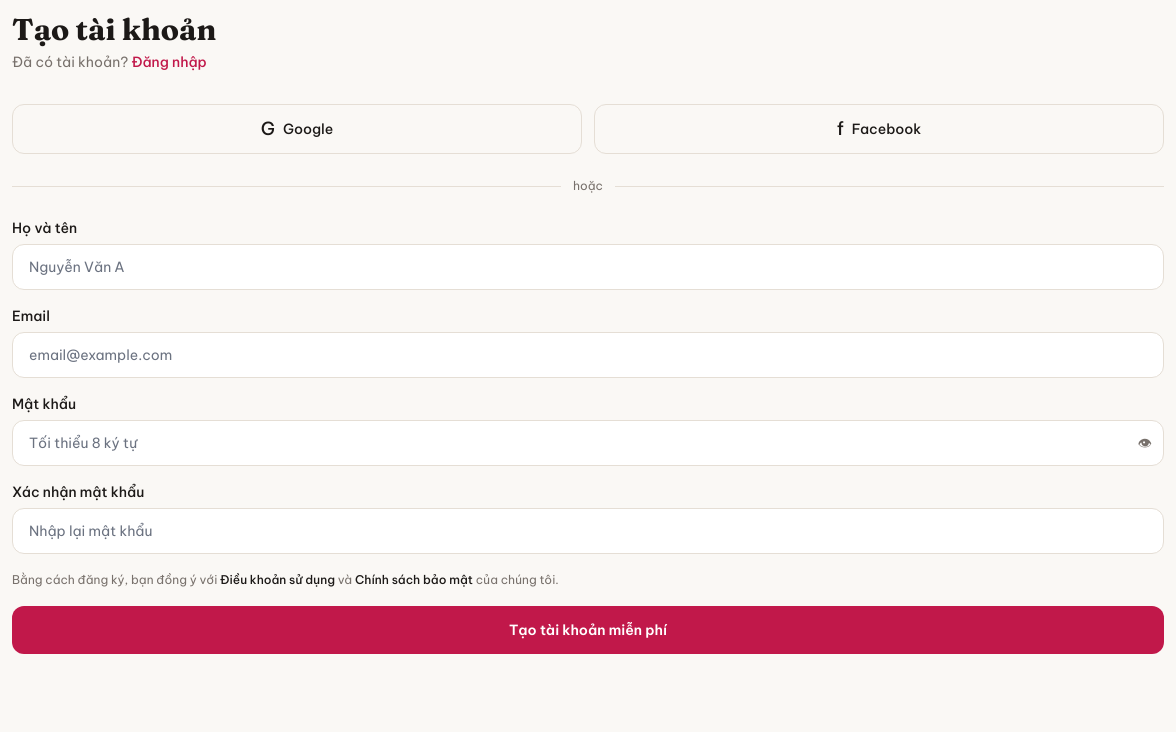
Test case: RegisterPage.vue › displays backend validation error under fields (422)
Type "Test User" into the field labelled "Họ và tên" at x=588, y=267, box [12, 244, 1164, 290]
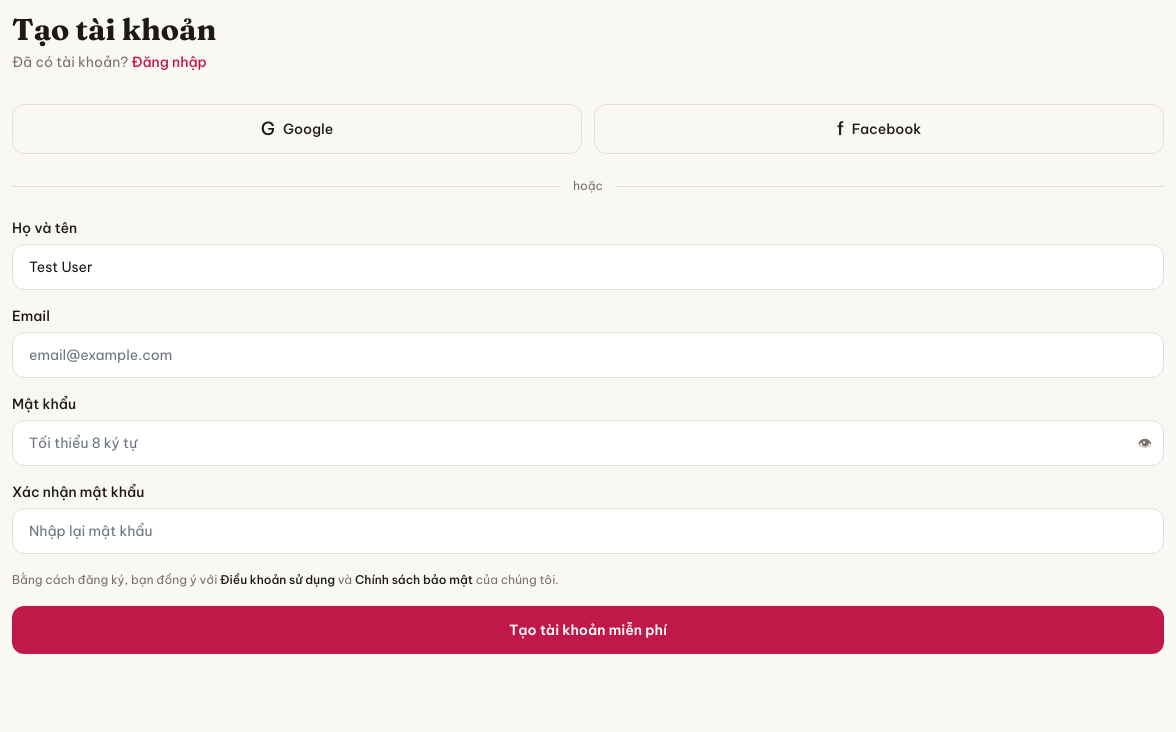
Type "test@example.com" into the field labelled "Email" at x=588, y=355, box [12, 332, 1164, 378]
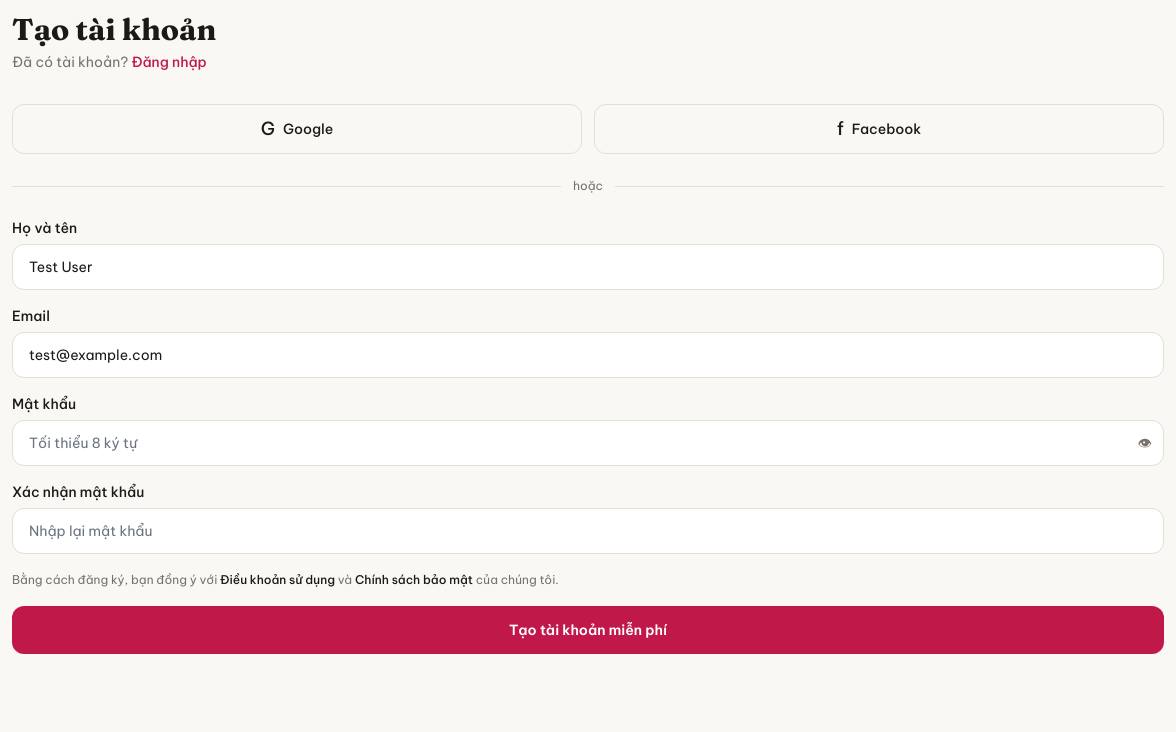
Type "password123" into the password field labelled "Mật khẩu" at x=588, y=443, box [12, 420, 1164, 466]
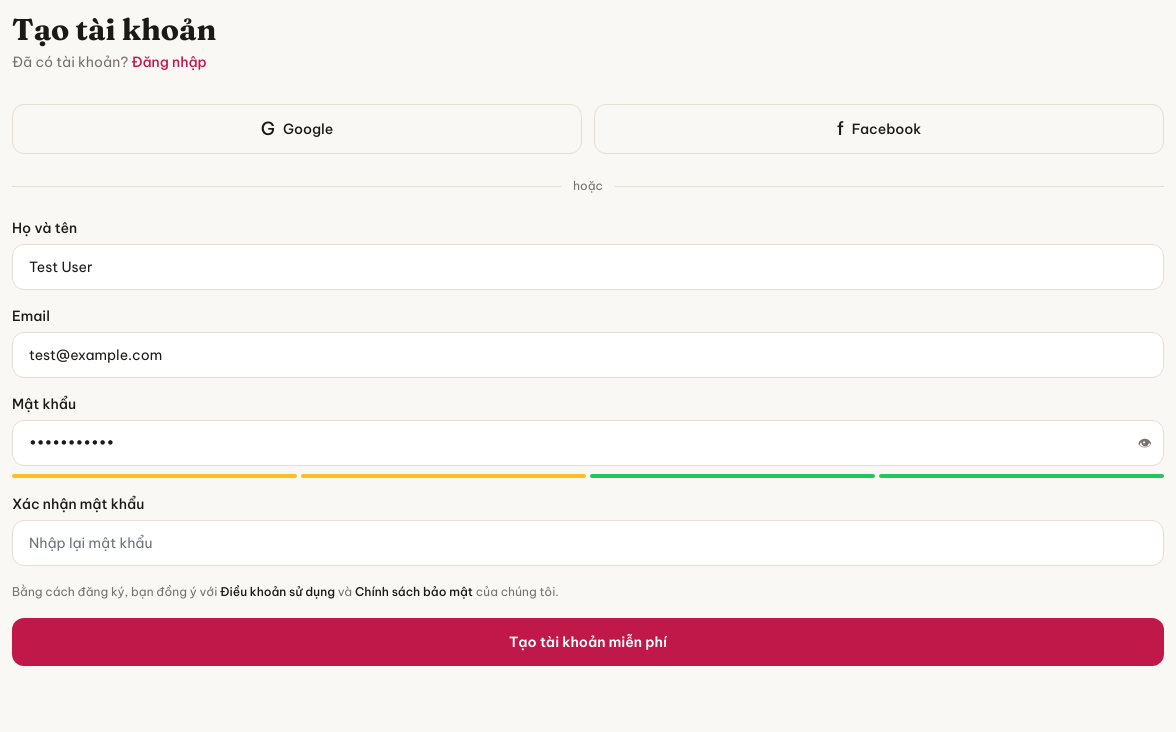
Type "password123" into the password field labelled "Xác nhận mật khẩu" at x=588, y=543, box [12, 520, 1164, 566]
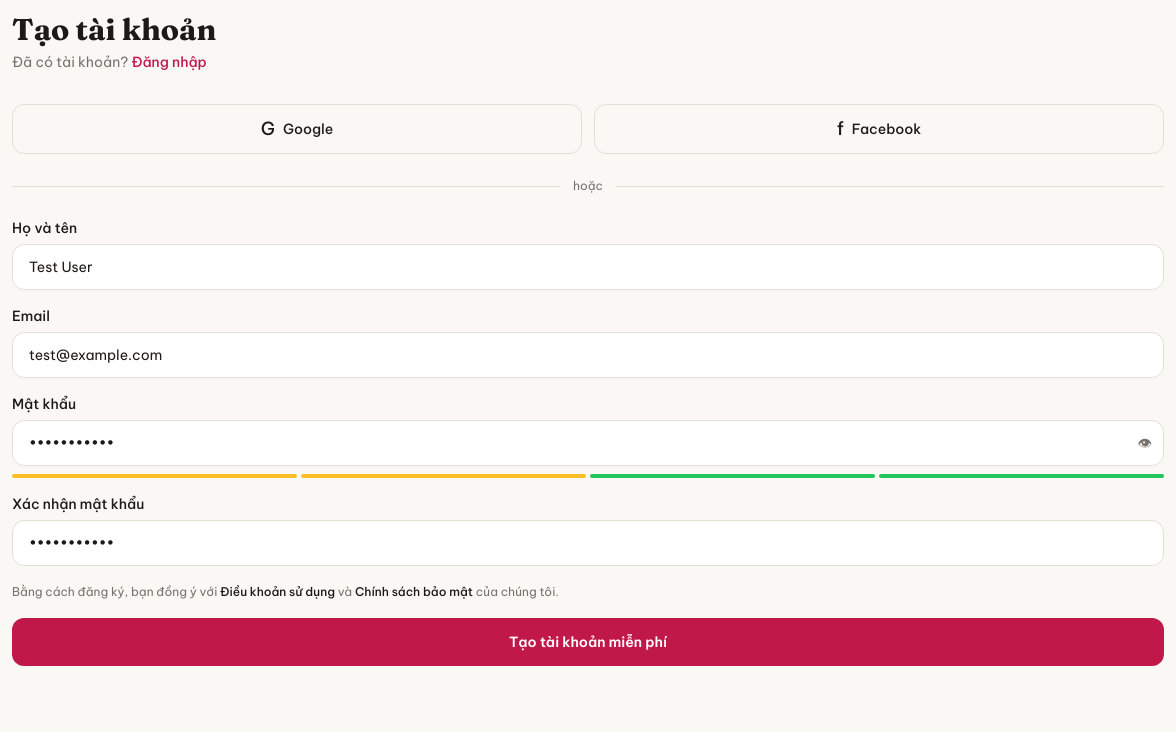
Submit the form, box [12, 218, 1164, 666]
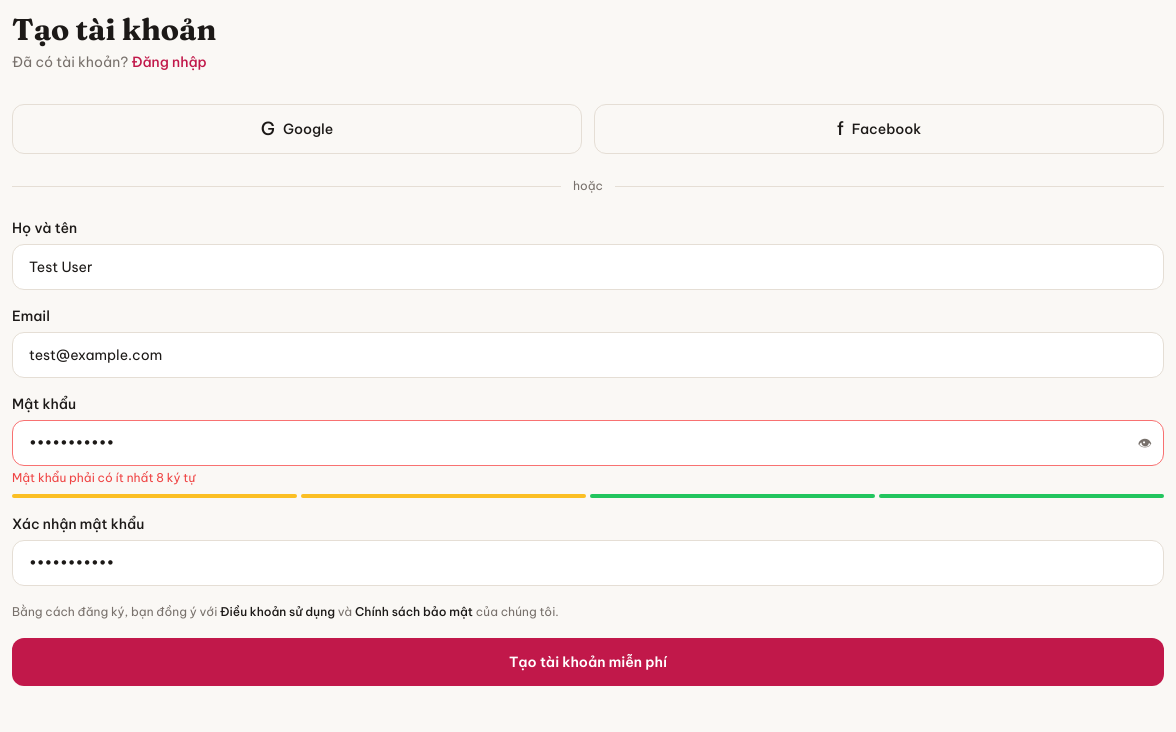
Expected: the text "Mật khẩu phải có ít nhất 8 ký tự" is shown, [12, 470, 195, 485]
